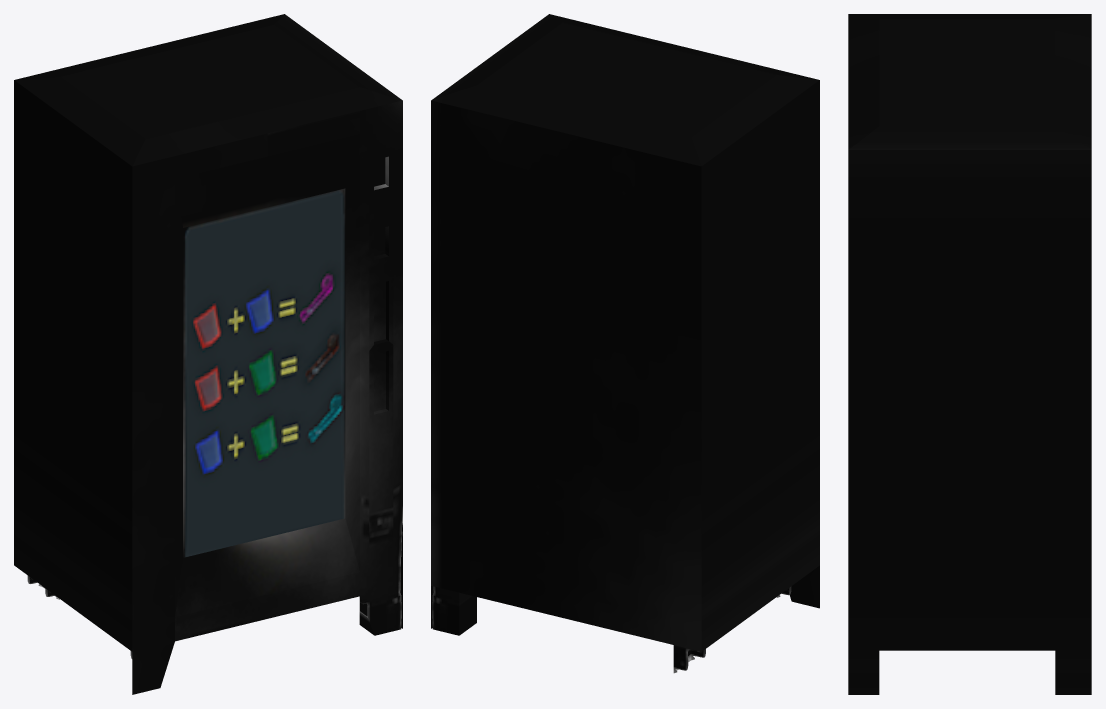
Rendered from vending.fbx.
The picture shows the model from 3 angles, left to right: view 1: azimuth 30°, elevation 25°; view 2: azimuth 150°, elevation 25°; view 3: azimuth 270°, elevation 25°; orthographic projection. The views are drawn at different scales.
Visible parts, largest first — view 1: Model; view 2: Model; view 3: Model.
Part boxes in pixels (x1,y1,x2,y2): Model: [14, 14, 402, 694]; Model: [431, 14, 819, 673]; Model: [848, 14, 1091, 694].
Size of the model in its own units: 185 by 351 by 140.
